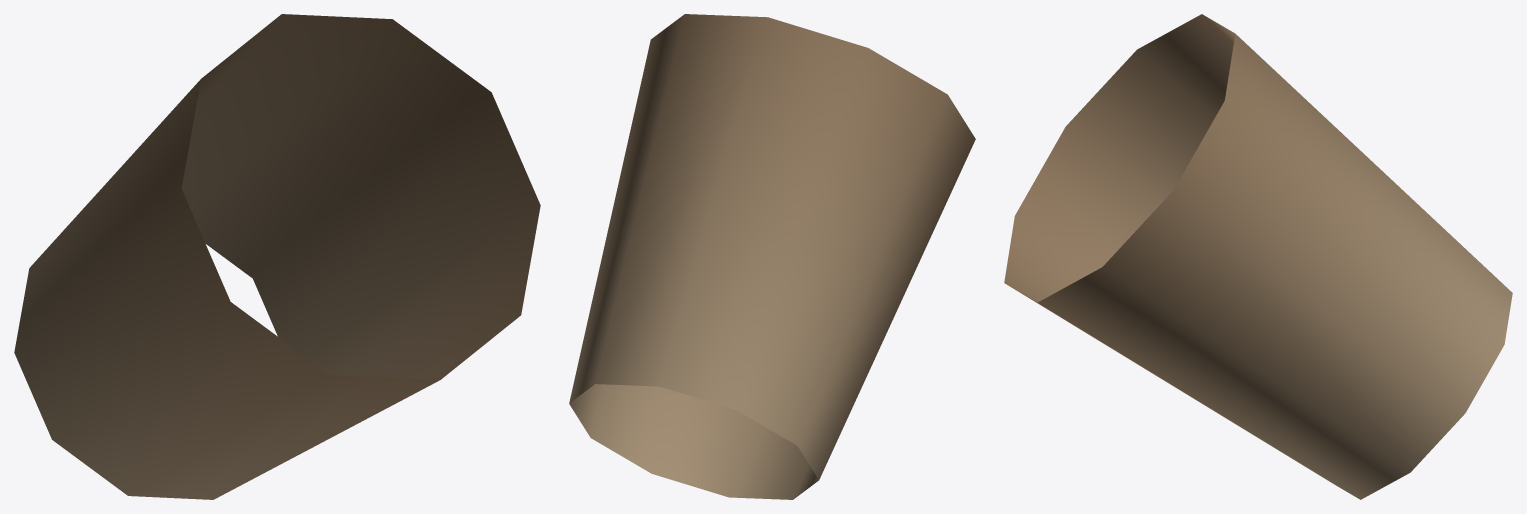
Rendered from Nakiusagi_Limb1L.fbx.
3 renders of one model, left to right at view 1: azimuth 30°, elevation 25°; view 2: azimuth 150°, elevation 25°; view 3: azimuth 270°, elevation 25°, orthographic. The views are drawn at different scales.
Parts seen in each view (by area): view 1: Nakiusagi_Limb1L; view 2: Nakiusagi_Limb1L; view 3: Nakiusagi_Limb1L.
Boxes of the visible parts, x1,y1,x2,y2 form: Nakiusagi_Limb1L: (14,14,540,499); Nakiusagi_Limb1L: (569,14,975,499); Nakiusagi_Limb1L: (1004,14,1512,499).
Bounding box in the file's own units: 0.5033 × 0.7447 × 0.7527.
